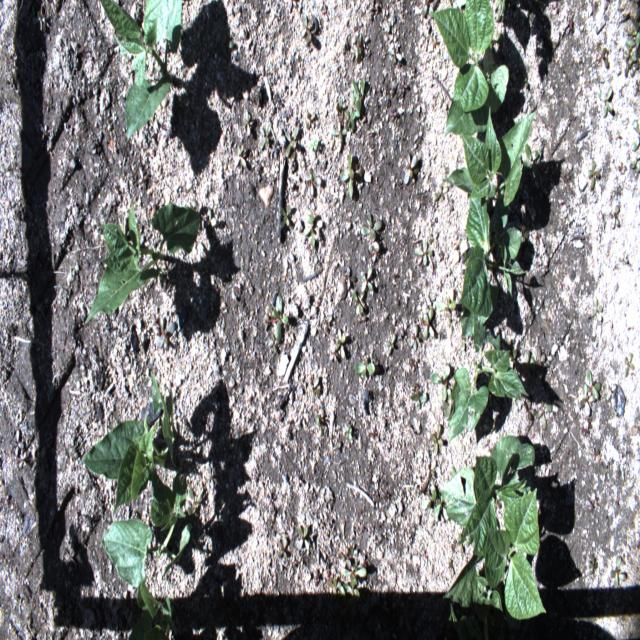crop: (85, 198, 202, 323), (80, 368, 175, 514), (443, 488, 546, 620), (99, 0, 182, 140), (439, 435, 535, 556), (101, 468, 193, 591), (429, 0, 509, 140), (460, 186, 531, 339), (448, 318, 530, 444), (442, 107, 536, 212), (446, 589, 516, 639), (128, 579, 181, 639), (494, 0, 508, 16)
weed: (265, 294, 290, 342), (340, 150, 362, 198), (342, 558, 367, 590), (360, 210, 382, 245), (430, 365, 451, 401), (157, 316, 176, 351), (609, 554, 627, 589), (577, 382, 595, 416), (522, 142, 540, 176), (422, 485, 438, 523), (303, 167, 323, 196), (300, 13, 317, 47), (414, 236, 433, 265), (284, 124, 300, 158), (186, 488, 204, 518), (351, 76, 366, 112), (330, 116, 348, 145), (598, 86, 614, 118), (429, 422, 444, 456), (403, 151, 417, 187), (537, 401, 552, 434), (434, 493, 451, 522), (198, 206, 217, 230), (338, 583, 362, 602), (332, 326, 346, 358), (303, 212, 315, 249), (486, 32, 505, 55), (258, 123, 273, 151), (354, 362, 375, 382), (359, 264, 374, 292), (408, 390, 429, 410), (586, 370, 600, 400), (589, 297, 603, 326), (422, 306, 434, 339), (535, 342, 546, 377), (326, 576, 342, 600), (588, 162, 600, 194), (628, 32, 640, 64), (442, 386, 454, 418), (297, 523, 310, 551), (341, 268, 357, 290), (308, 374, 320, 403), (433, 182, 450, 202), (597, 44, 610, 70), (337, 547, 351, 571), (522, 398, 536, 422), (278, 205, 290, 232), (438, 294, 456, 312), (352, 286, 364, 312), (355, 31, 369, 53), (350, 86, 360, 116), (521, 350, 531, 380), (630, 119, 639, 152), (336, 96, 348, 120), (385, 331, 396, 357), (624, 52, 635, 78), (623, 351, 634, 377), (610, 203, 620, 231), (236, 143, 247, 168), (314, 412, 324, 438), (243, 110, 252, 138), (346, 544, 358, 565), (277, 538, 287, 563), (507, 348, 517, 373), (457, 531, 467, 555), (267, 334, 278, 355), (411, 324, 419, 352), (521, 218, 532, 238), (588, 554, 598, 575), (346, 105, 354, 130), (630, 151, 639, 173), (282, 0, 297, 12), (588, 445, 600, 460), (306, 111, 315, 130), (622, 41, 632, 58), (344, 424, 352, 444), (615, 128, 622, 150), (421, 0, 430, 17), (530, 355, 535, 385), (310, 135, 319, 151), (428, 459, 436, 476), (618, 161, 627, 175), (496, 4, 502, 24), (619, 252, 629, 264), (493, 498, 501, 511), (450, 466, 456, 482), (586, 500, 594, 512)
